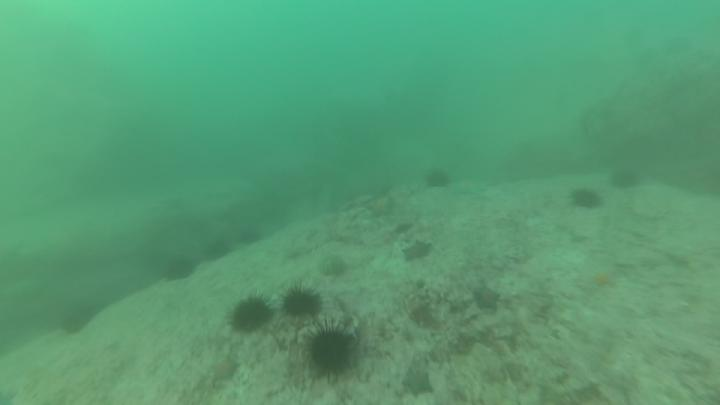holothurian: (400, 366, 437, 400), (471, 281, 503, 314), (399, 238, 436, 265)
starfish: (302, 319, 363, 387), (227, 290, 278, 338), (279, 280, 329, 322), (59, 303, 98, 337), (161, 255, 197, 285), (569, 185, 605, 213), (200, 239, 235, 266), (607, 166, 639, 191), (424, 168, 450, 191), (238, 225, 264, 247)
